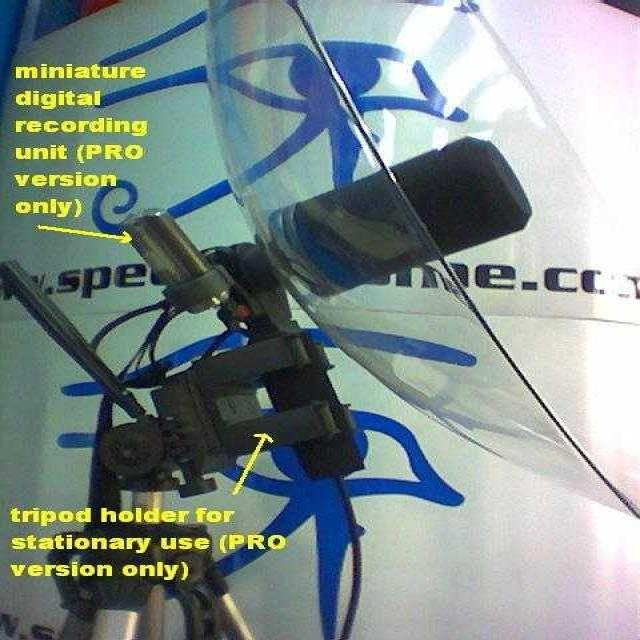microphone: (274, 138, 532, 293)
